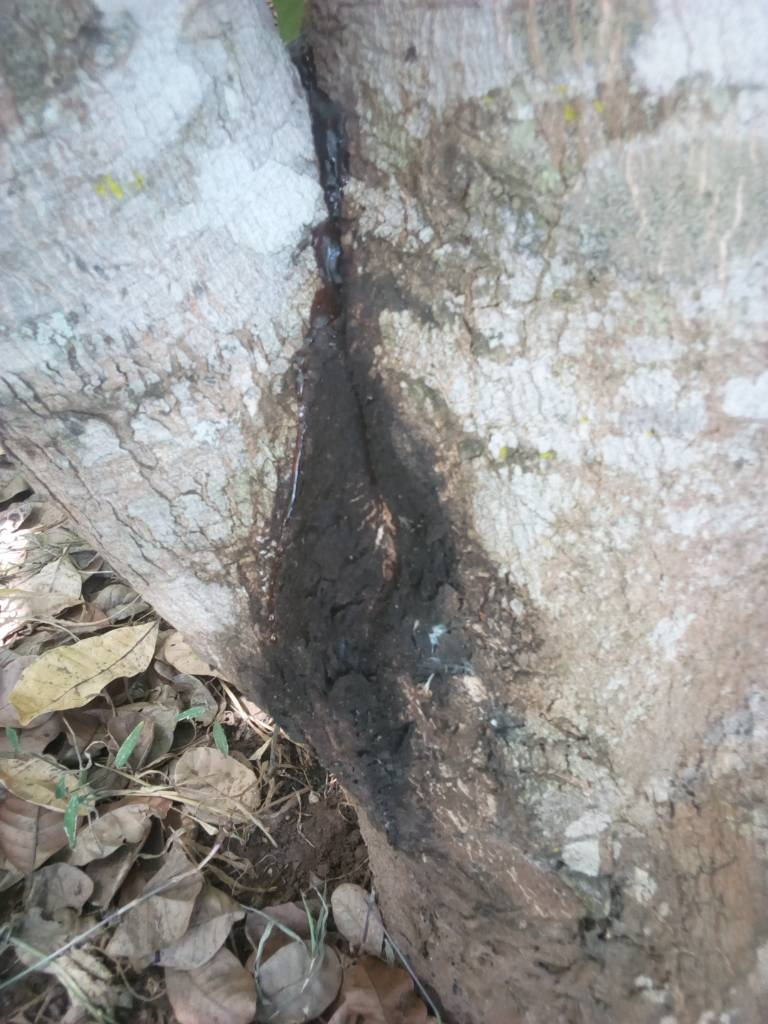Gommose: (280, 374, 480, 830), (311, 75, 341, 316)
